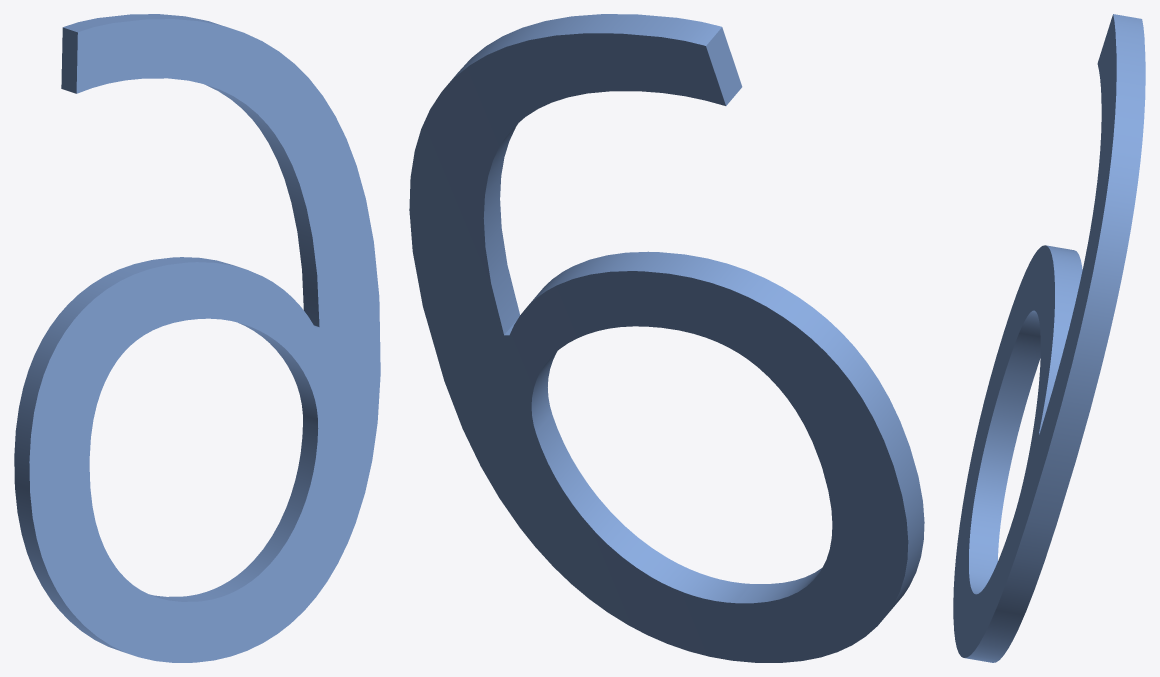
File: New_Number_9.gltf
3 views of the same model, side by side, from view 1: azimuth 30°, elevation 25°; view 2: azimuth 150°, elevation 25°; view 3: azimuth 270°, elevation 25° (orthographic). The views are drawn at different scales.
Visible parts, largest first — view 1: Part 495; view 2: Part 495; view 3: Part 495.
Part boxes in pixels (<box>): Part 495: <box>14,14,380,662</box>; Part 495: <box>409,14,924,662</box>; Part 495: <box>953,14,1145,662</box>.
Size of the model in its own units: 0.00378 by 0.00565 by 0.00165.
